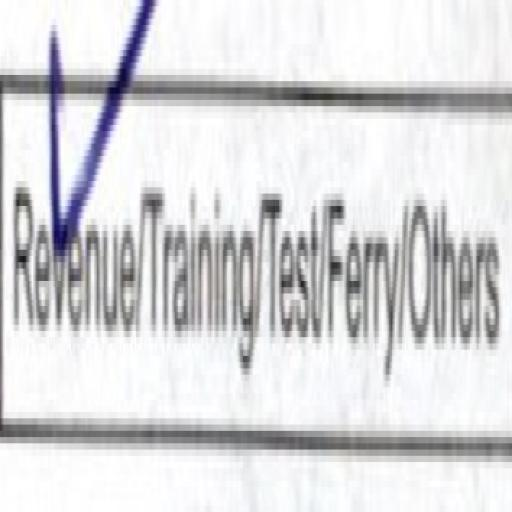check: (0, 0, 134, 483)
